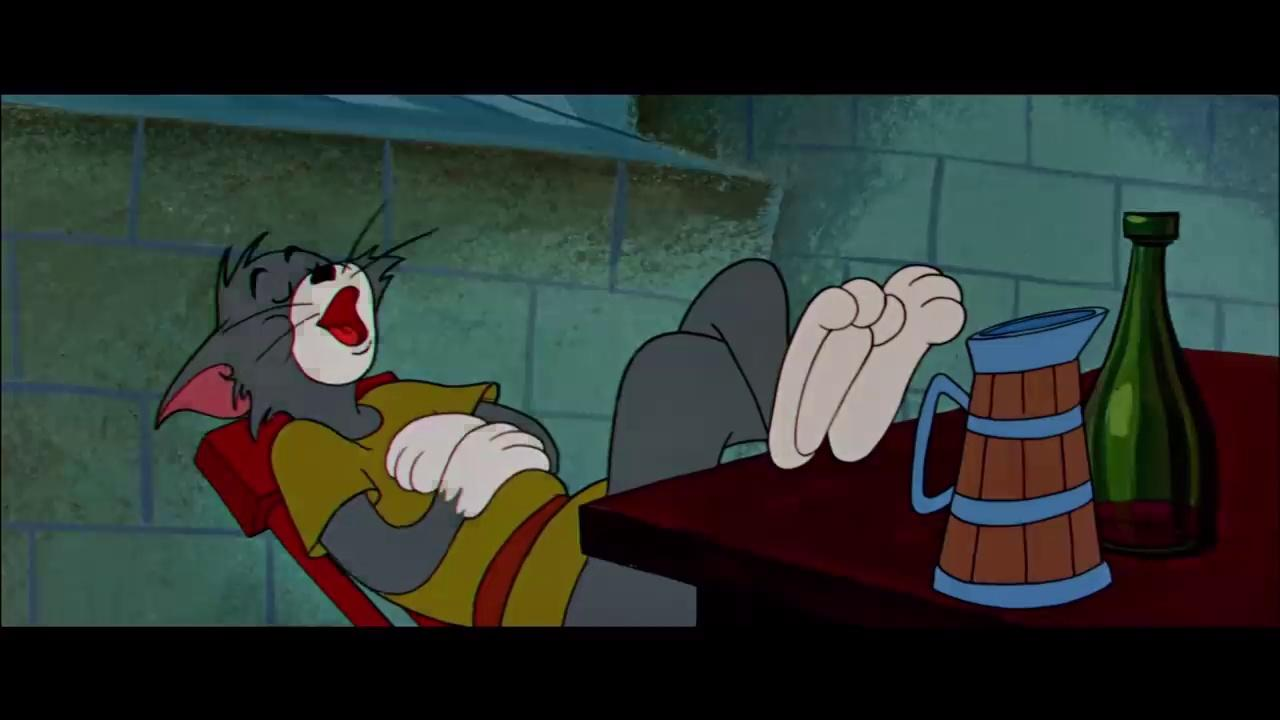Tom: (154, 229, 969, 628)
